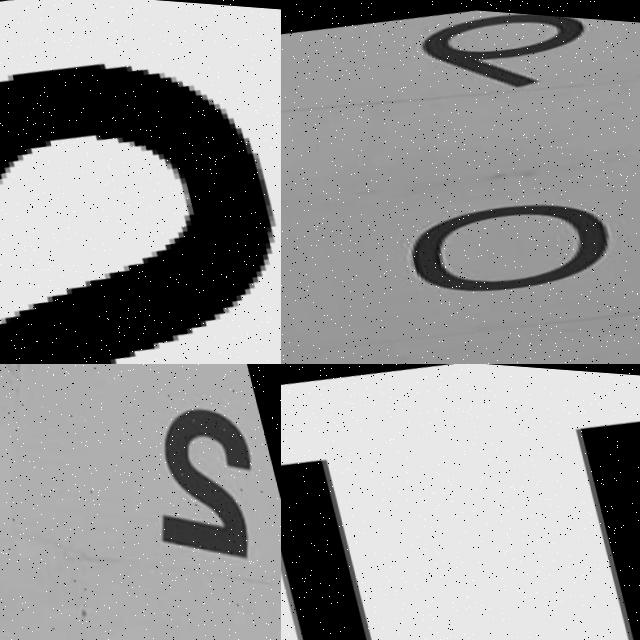0: (374, 163, 640, 320)
2: (109, 368, 281, 575)
9: (385, 1, 622, 111)
S: (0, 0, 281, 364)
U: (281, 378, 640, 640)
